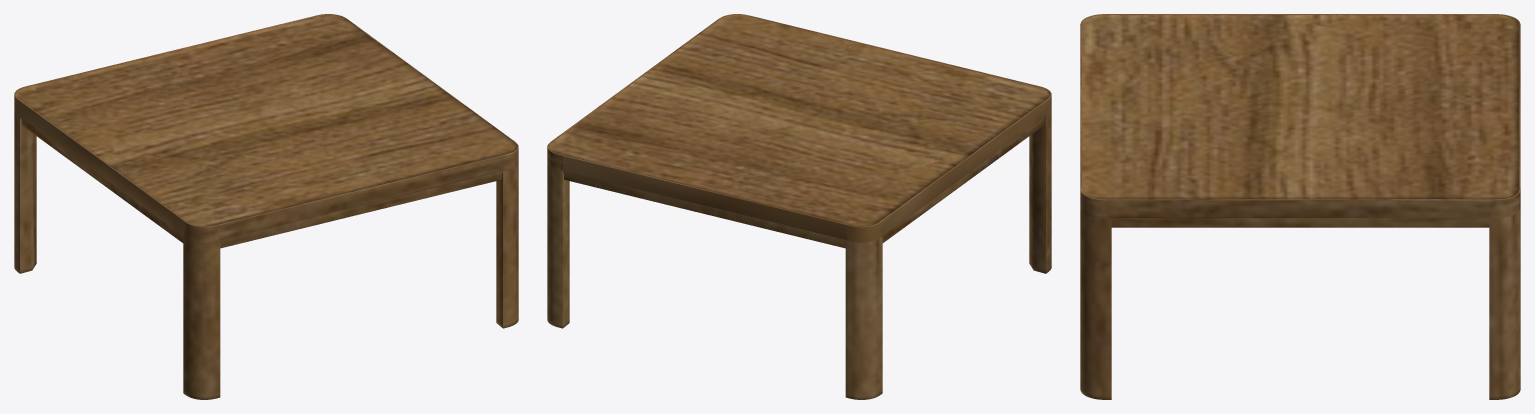
The model's file is wooden table.glb.
3 renders of one model, left to right at view 1: azimuth 30°, elevation 25°; view 2: azimuth 150°, elevation 25°; view 3: azimuth 270°, elevation 25°, orthographic. The views are drawn at different scales.
Visible parts, largest first — view 1: Cube, Cube.002; view 2: Cube, Cube.002; view 3: Cube, Cube.002.
Part boxes in pixels (box(x1,y1,x2,y2)): Cube: box(14, 14, 518, 399); Cube.002: box(21, 118, 501, 248); Cube: box(547, 14, 1051, 399); Cube.002: box(564, 118, 1044, 248); Cube: box(1080, 14, 1520, 399); Cube.002: box(1111, 218, 1489, 227).
Bounding box in the file's own units: 0.7 × 0.351 × 0.7.
1 material, 1 textured.
